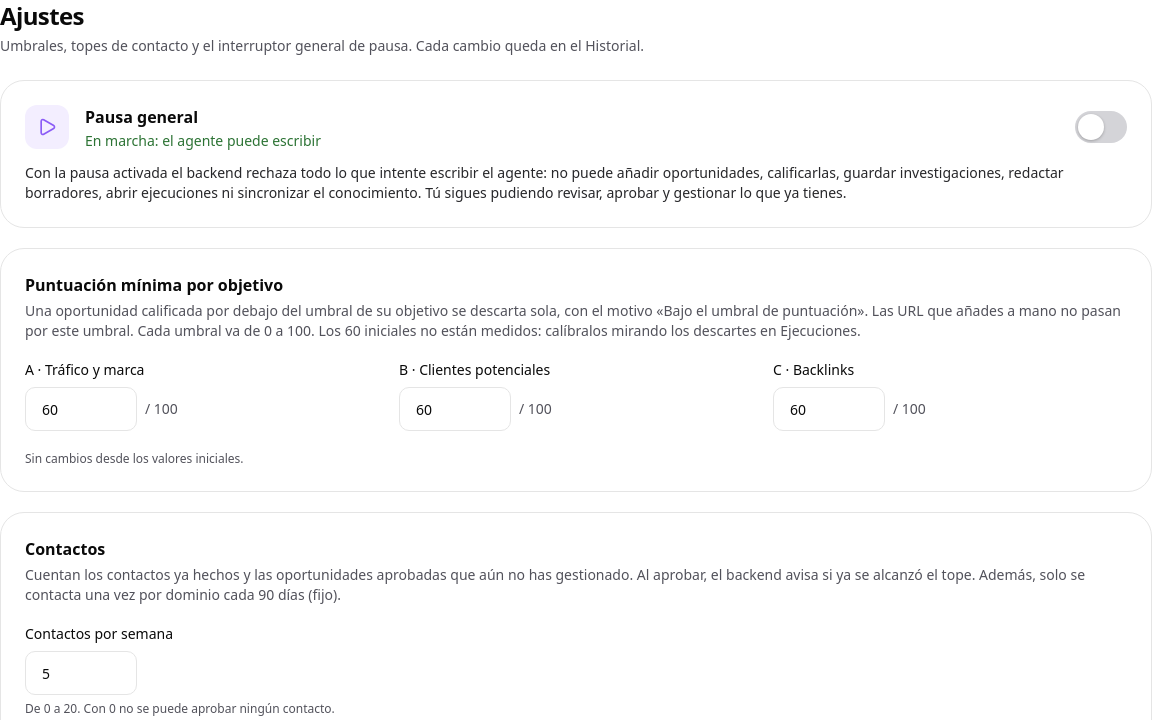
Ajustes · pausa › cancelar deja todo como estaba
What coordinates should you click on to do the following:
click the switch
I would click on:
 (1101, 127)
Its box is left=1075, top=105, right=1127, bottom=149.
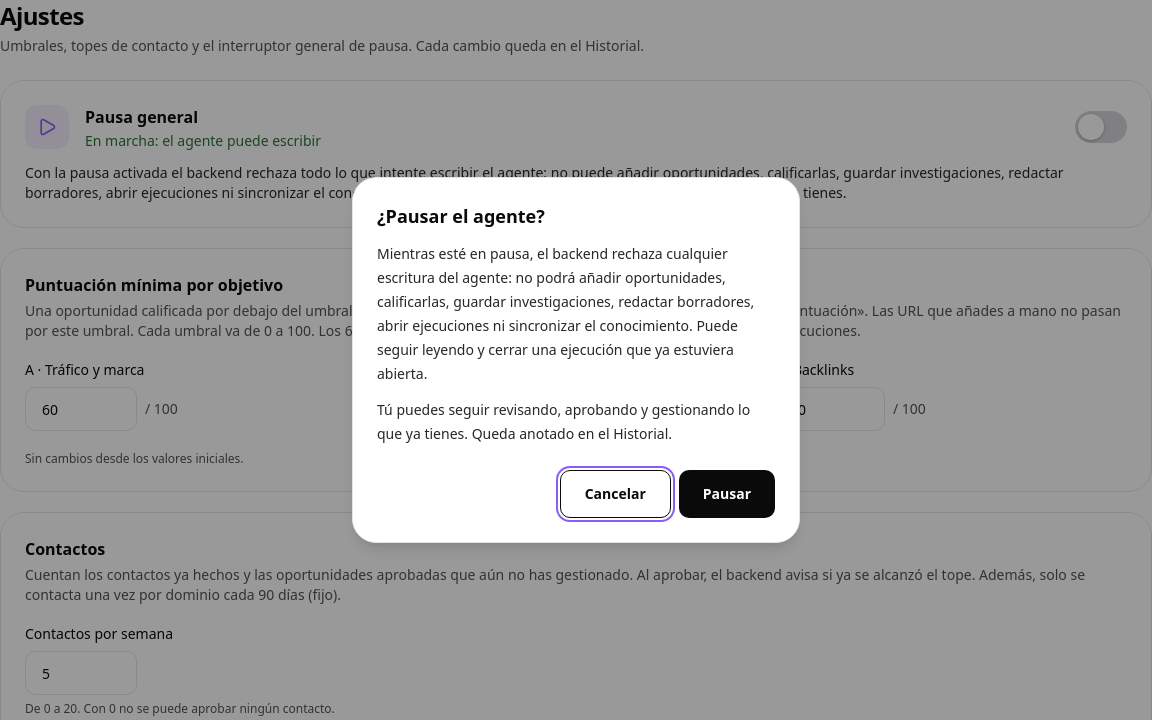
What coordinates should you click on to do the following:
click the button "Cancelar"
I would click on:
 (615, 494)
Its box is left=560, top=470, right=671, bottom=518.
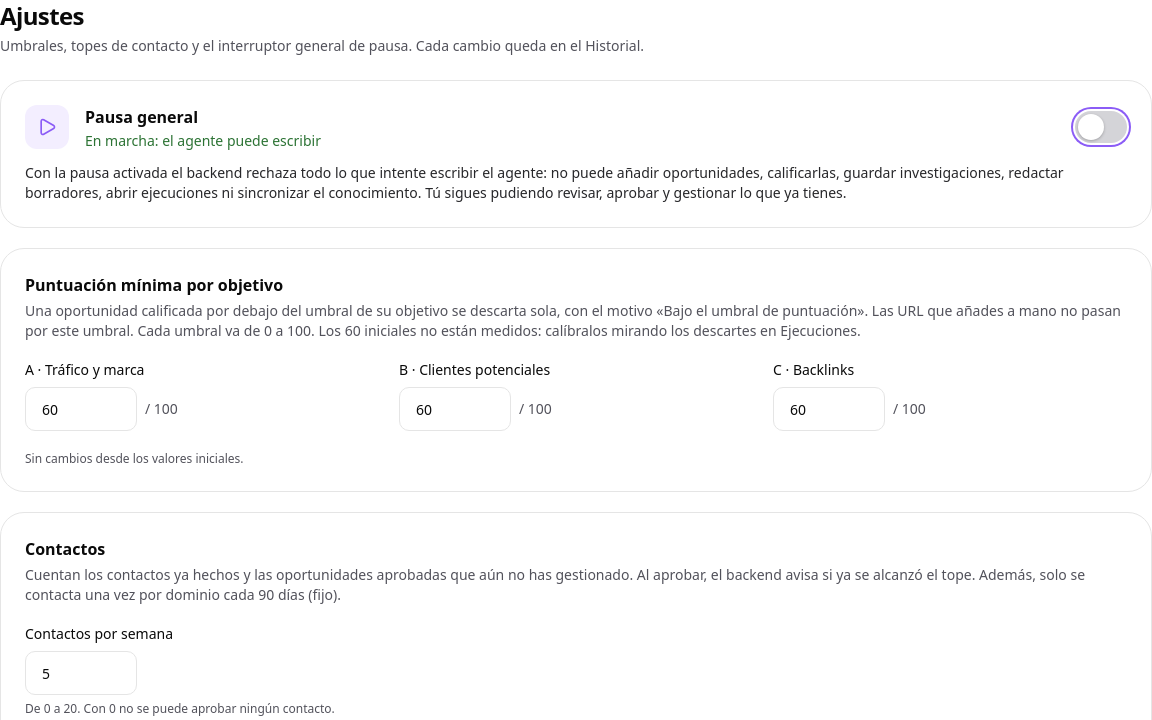
expect the dialog is gone: met
